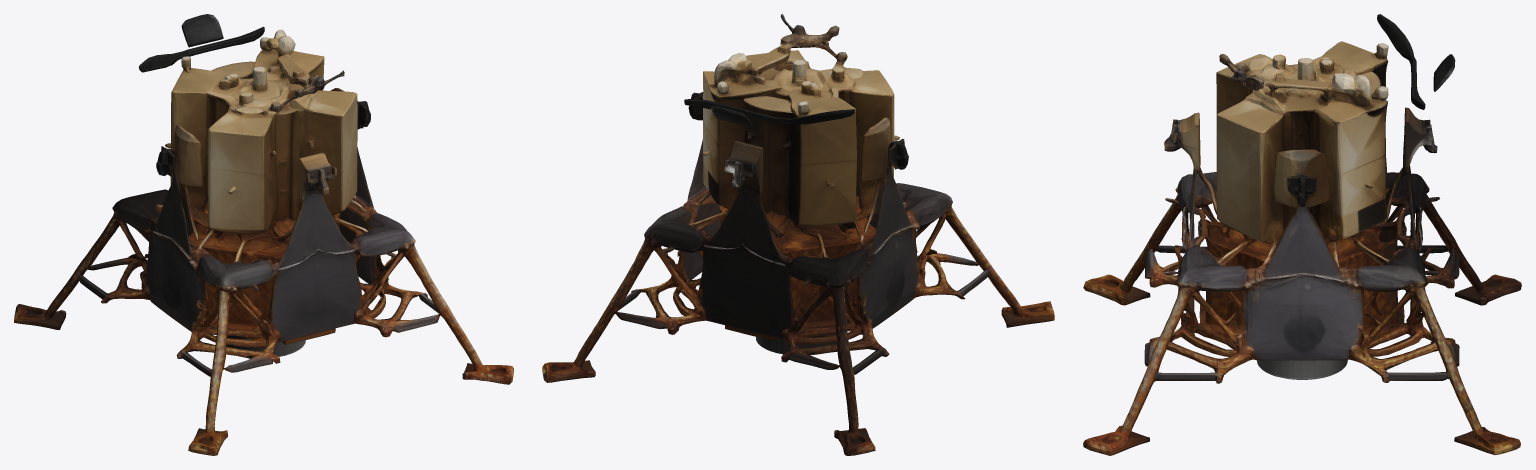
The model's file is apollo 12 2.glb.
3 views of the same model, side by side, from view 1: azimuth 30°, elevation 25°; view 2: azimuth 150°, elevation 25°; view 3: azimuth 270°, elevation 25° (orthographic). The views are drawn at different scales.
Visible parts, largest first — view 1: world; view 2: world; view 3: world.
Part boxes in pixels (x1,y1,x2,y2): world: (14, 14, 513, 455); world: (542, 14, 1054, 455); world: (1083, 14, 1521, 455).
Bounding box in the file's own units: 0.9213 × 0.7833 × 0.9769.
1 material, 1 textured.
